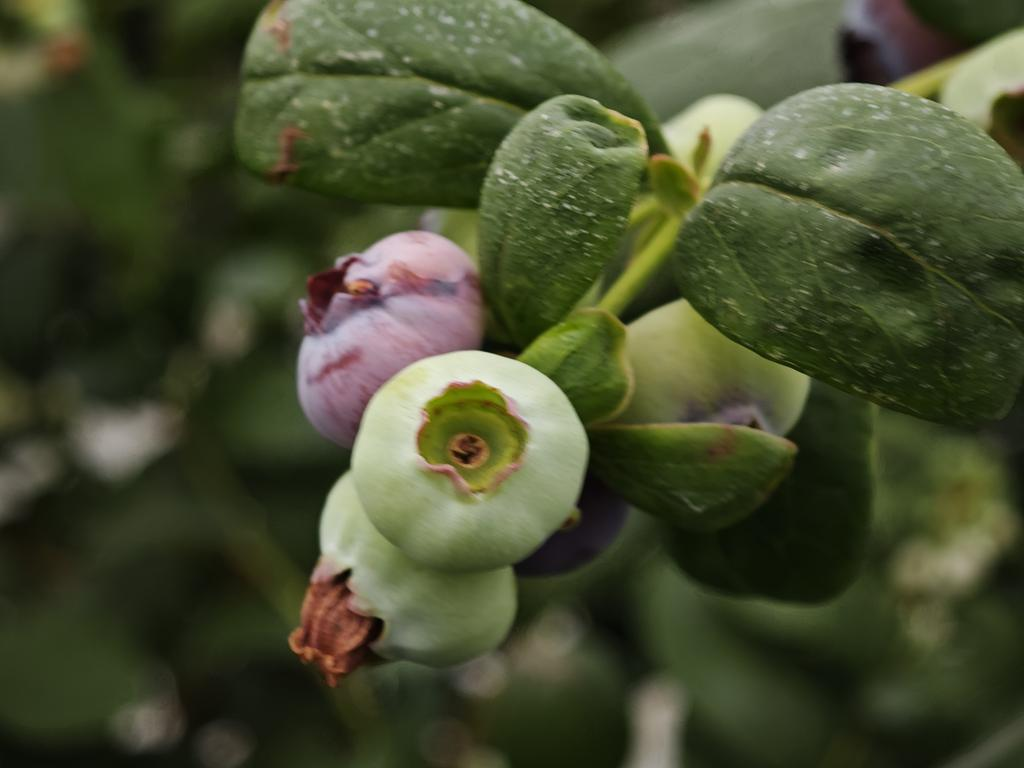RipeBlueBerry: (291, 225, 488, 451)
UnripeBlueBerry: (350, 346, 594, 572)
